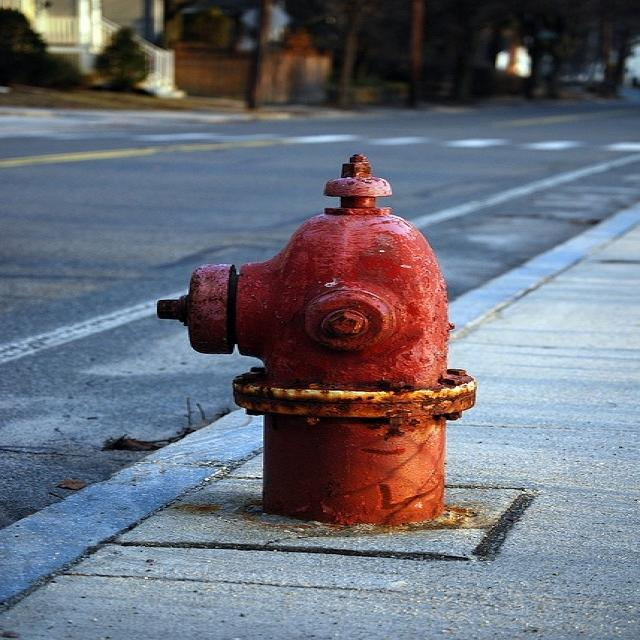fire_hydrant: (143, 148, 521, 552)
